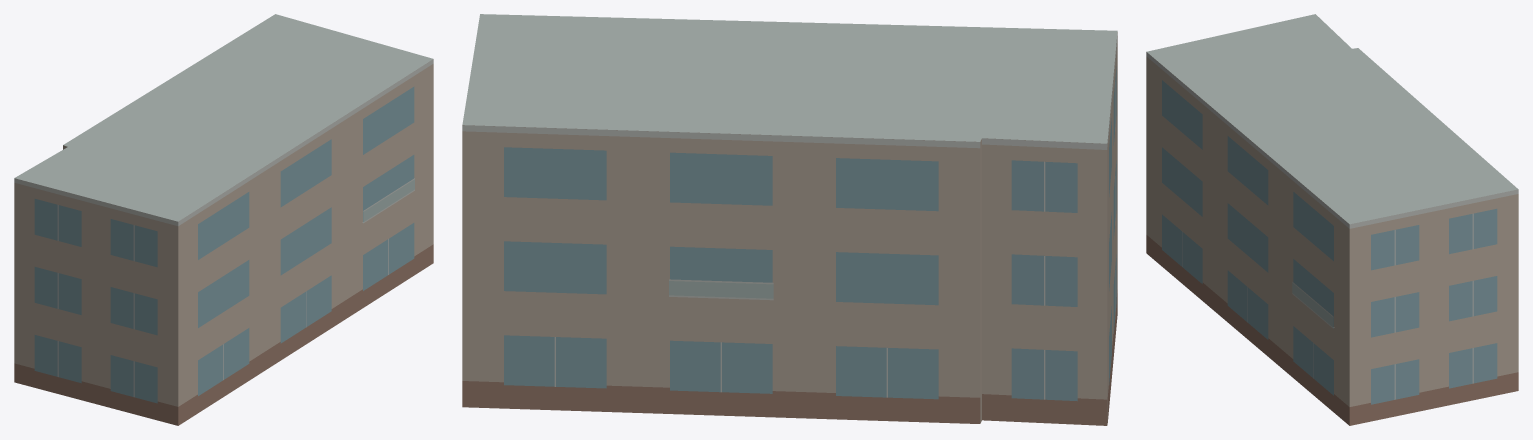
The model's file is survey-upis-32725726.glb.
3 renders of one model, left to right at view 1: azimuth 30°, elevation 25°; view 2: azimuth 150°, elevation 25°; view 3: azimuth 270°, elevation 25°, orthographic. The views are drawn at different scales.
Parts seen in each view (by area): view 1: survey-upis-32725726.tmp; view 2: survey-upis-32725726.tmp; view 3: survey-upis-32725726.tmp.
Boxes of the visible parts, x1,y1,x2,y2 form: survey-upis-32725726.tmp: [14, 14, 433, 425]; survey-upis-32725726.tmp: [462, 14, 1117, 425]; survey-upis-32725726.tmp: [1146, 14, 1518, 425].
Bounding box in the file's own units: 24.41 × 10.9 × 18.25.
